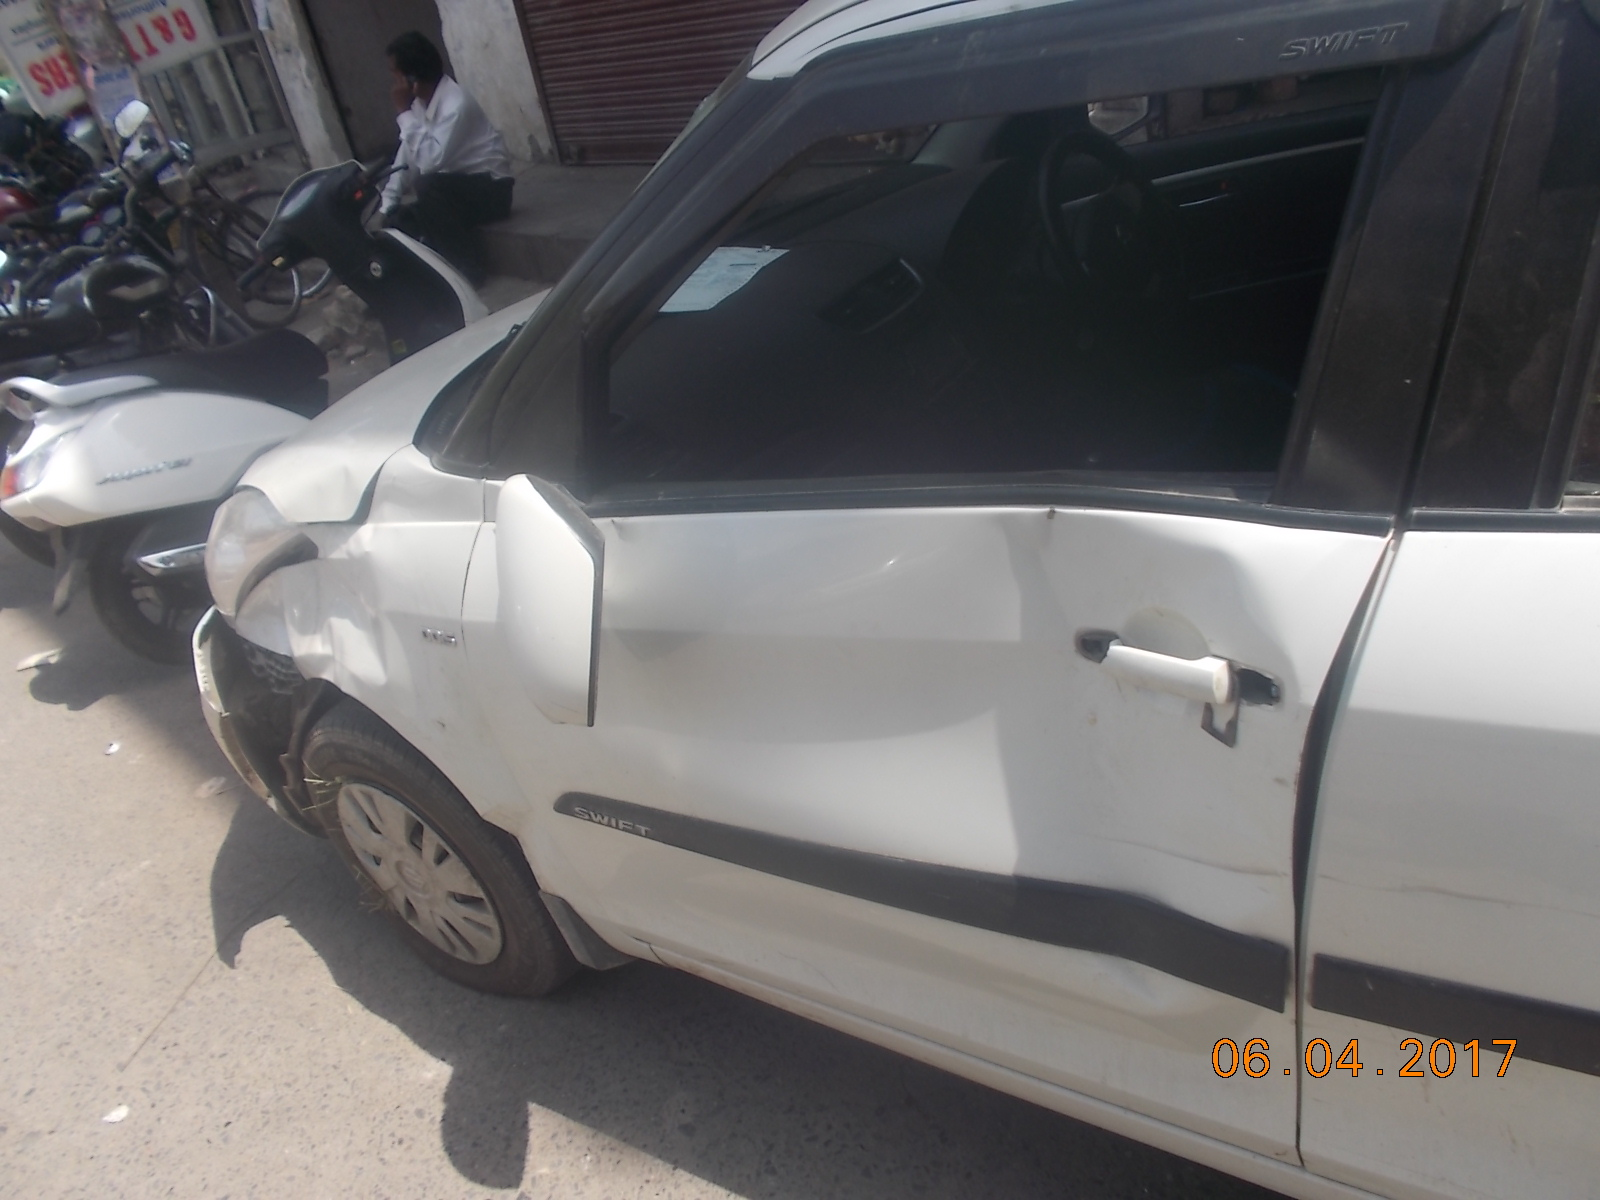Tear: (336, 568, 474, 1000)
